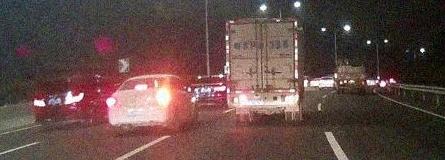L_light: (106, 97, 120, 107), (33, 99, 46, 107), (233, 97, 246, 104)
R_light: (153, 94, 174, 106), (65, 93, 84, 104), (282, 95, 297, 103)
T_light: (134, 84, 148, 91), (255, 23, 267, 28), (59, 81, 69, 85)
day-no: (32, 75, 90, 127)
night-no: (224, 18, 299, 124)
night-right: (106, 74, 176, 134)
